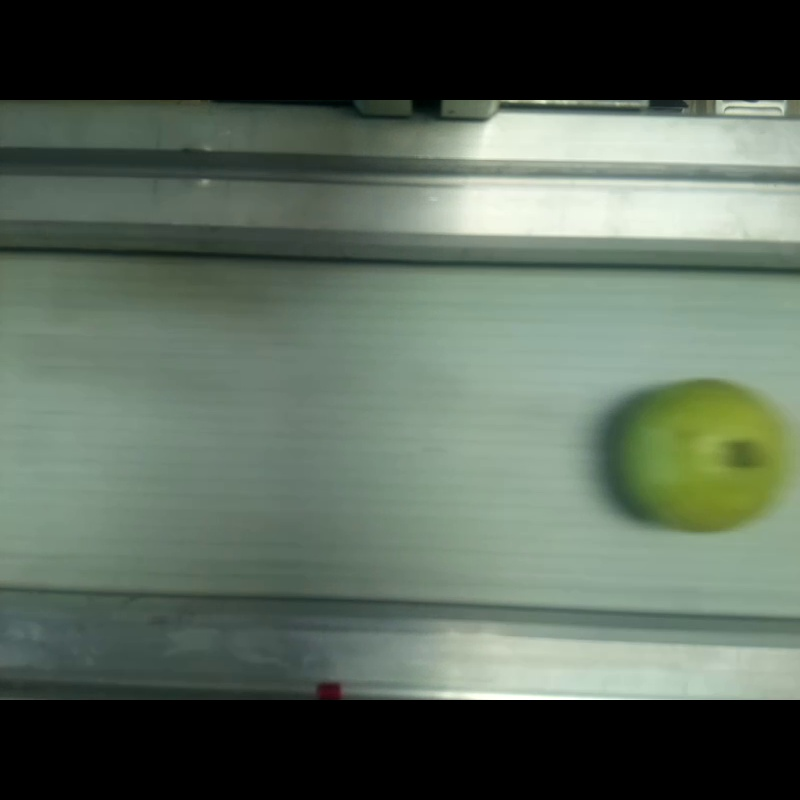lime: (619, 378, 778, 533)
